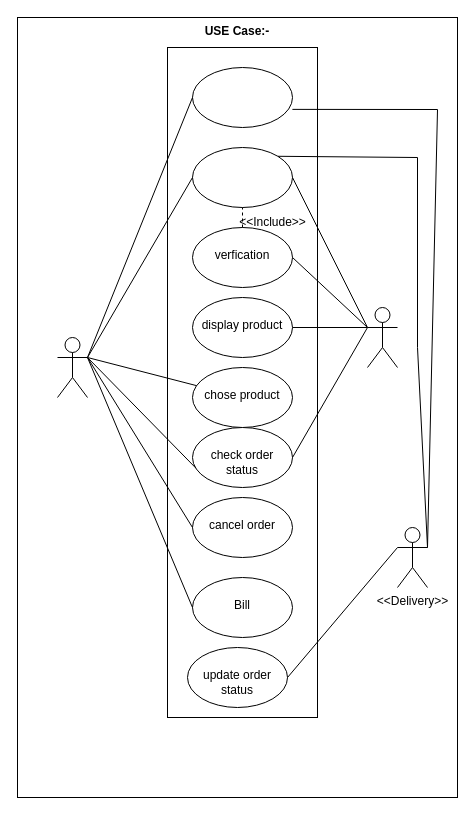
The diagram is 475 pixels wide and 815 high, and some of its shapes have lost their labels. The shapes that lost their labels are listed below. From the top down, each one's centre as x and y in pixels, then its label:
the point at 242,97: Register
the point at 242,177: login
the point at 382,337: <<Admin>>
the point at 72,367: <<Customer>>
